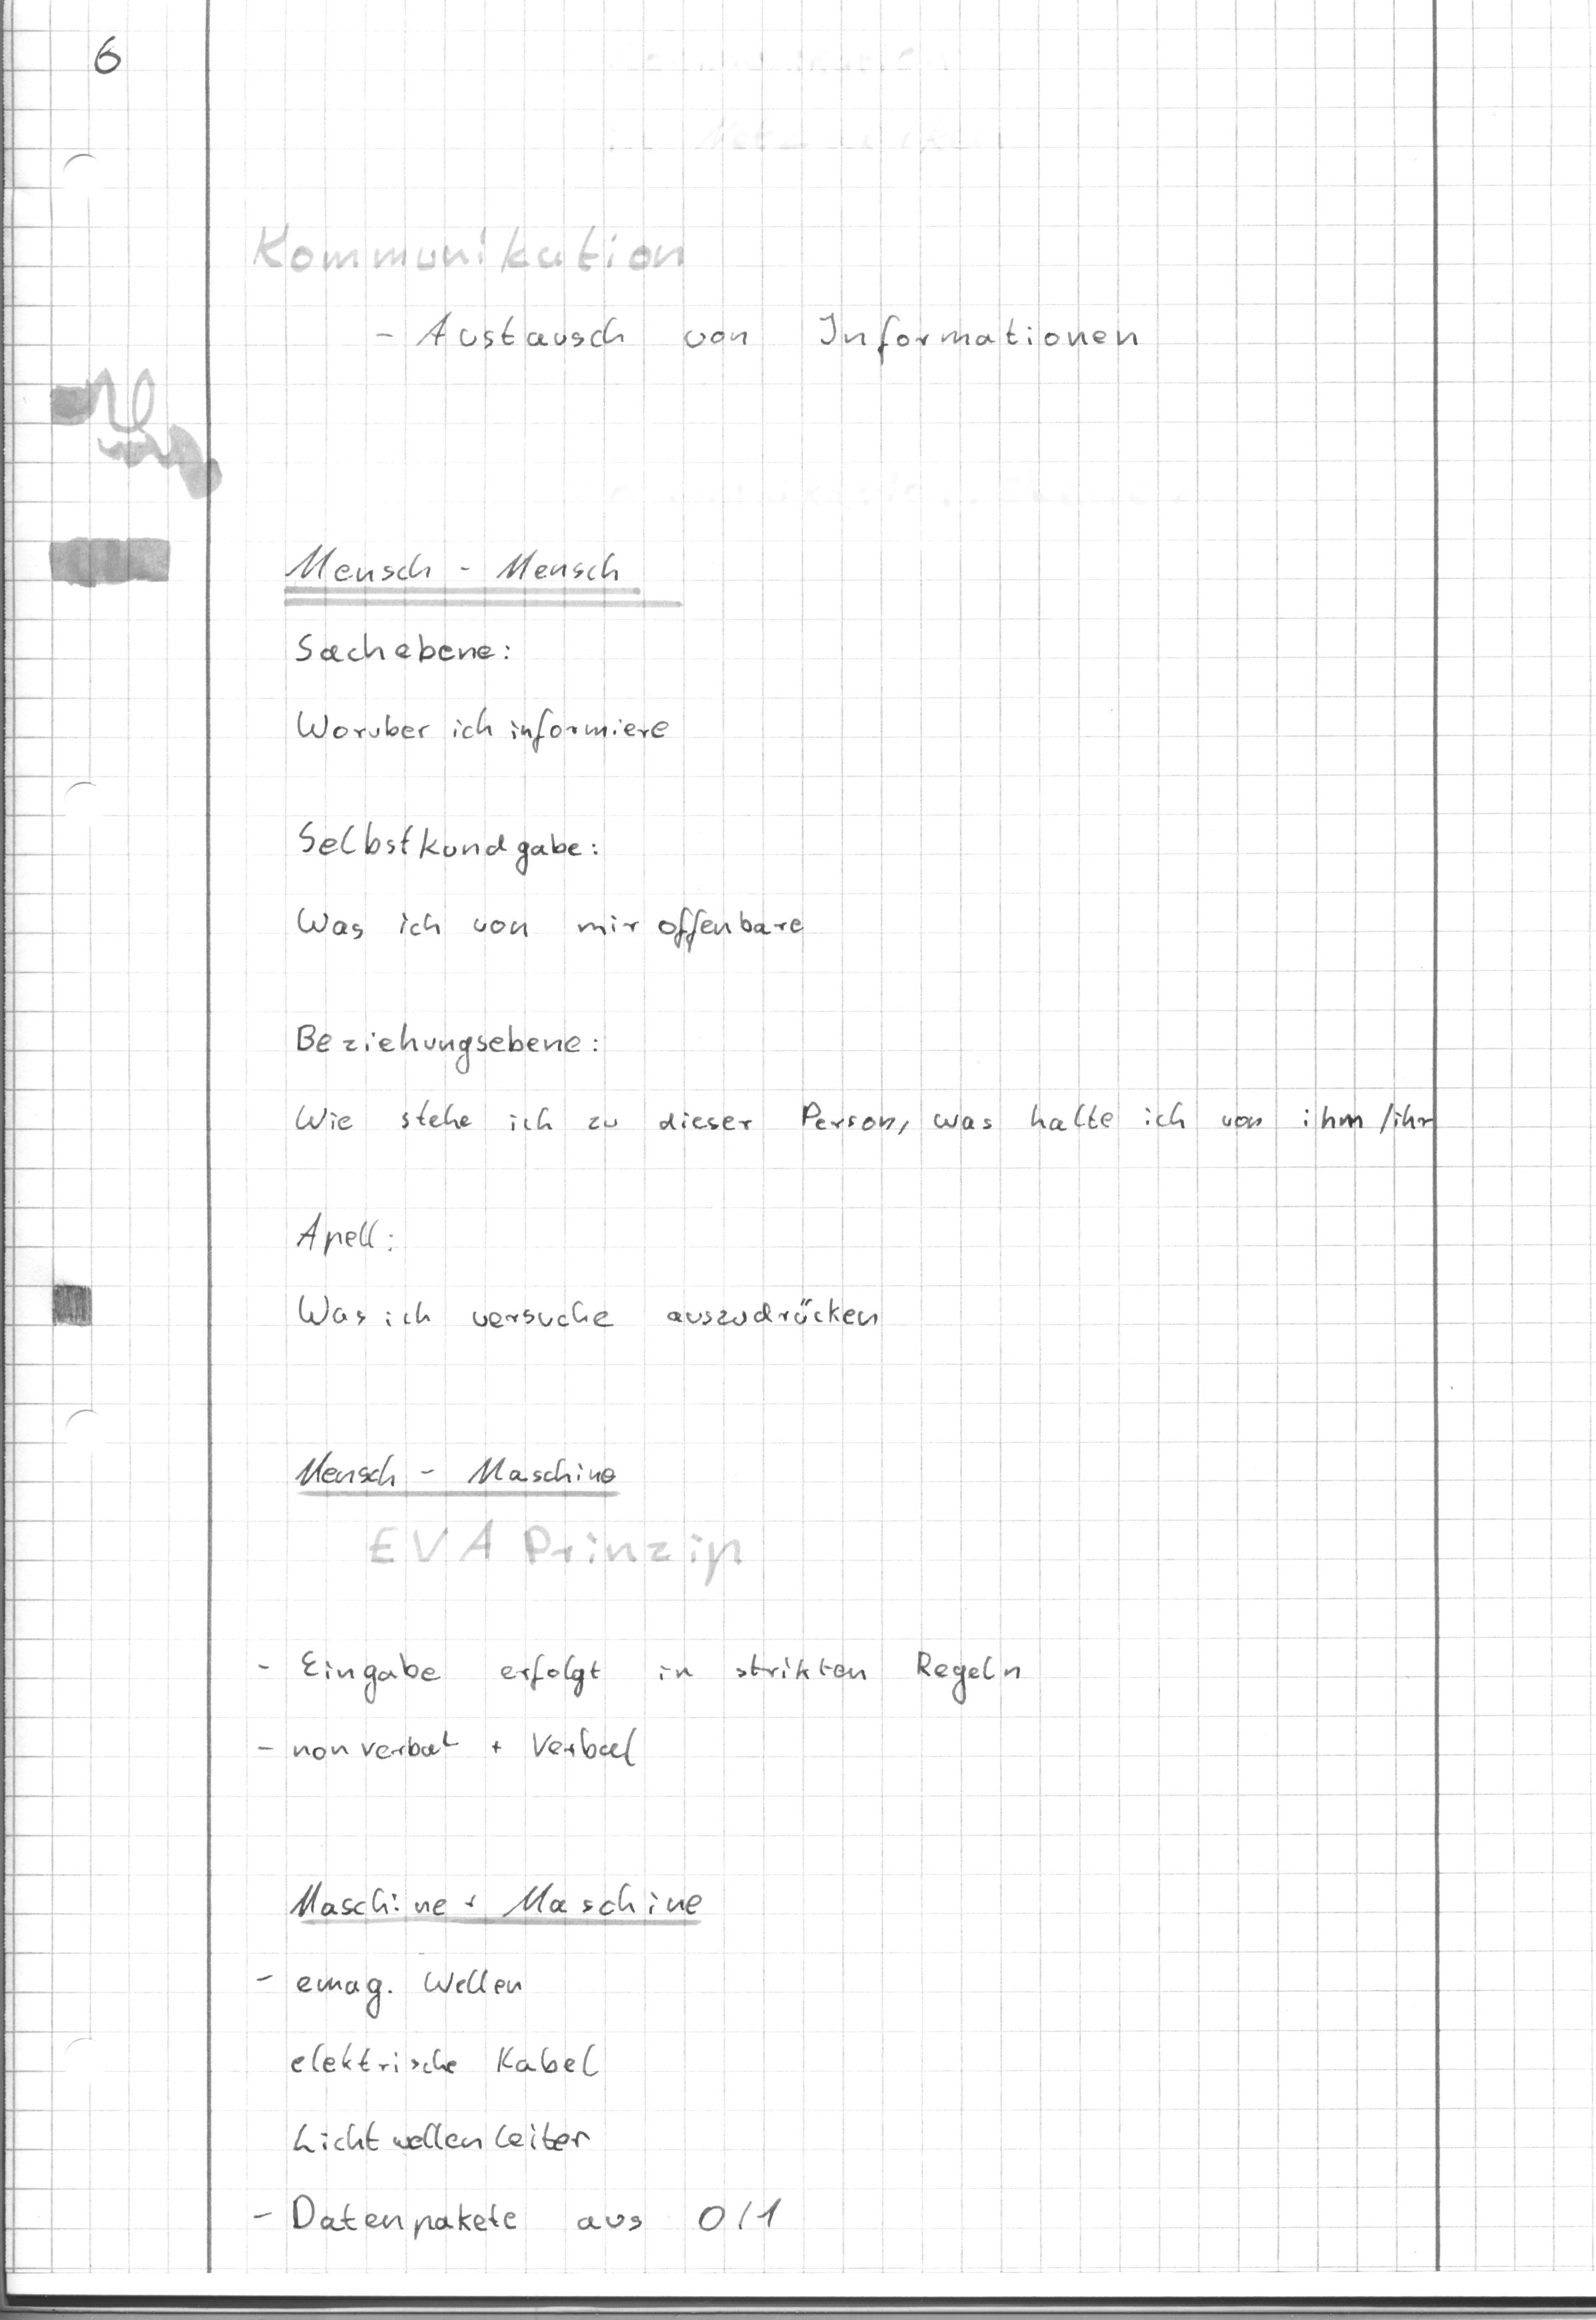word: (280, 1007, 1448, 1152), (240, 1627, 1039, 1781), (280, 1187, 898, 1367), (247, 1875, 734, 2090), (355, 284, 1163, 398), (275, 538, 690, 760), (286, 806, 821, 964), (239, 2104, 794, 2253), (280, 1432, 649, 1516)
